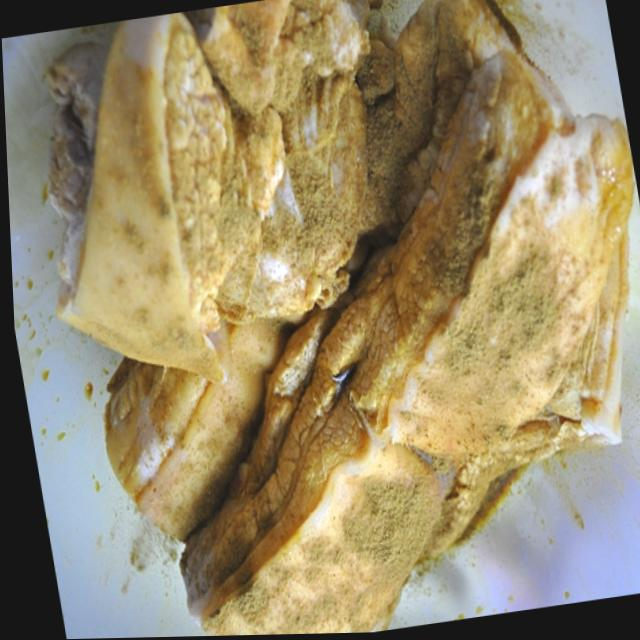牛肉菜式: (12, 11, 638, 596)
